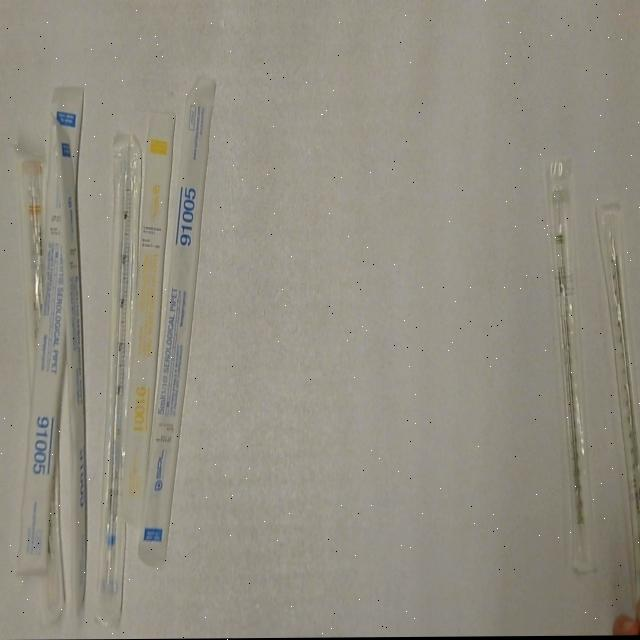Serelogical Pipet 1 mL: (119, 108, 178, 532)
Serelogical Pipet 10 mL: (19, 150, 52, 398)
Serelogical Pipet 2 mL: (541, 158, 598, 576)
Serelogical Pipet 5 mL: (137, 75, 220, 573), (16, 84, 86, 581), (91, 129, 145, 627), (49, 111, 90, 615)
